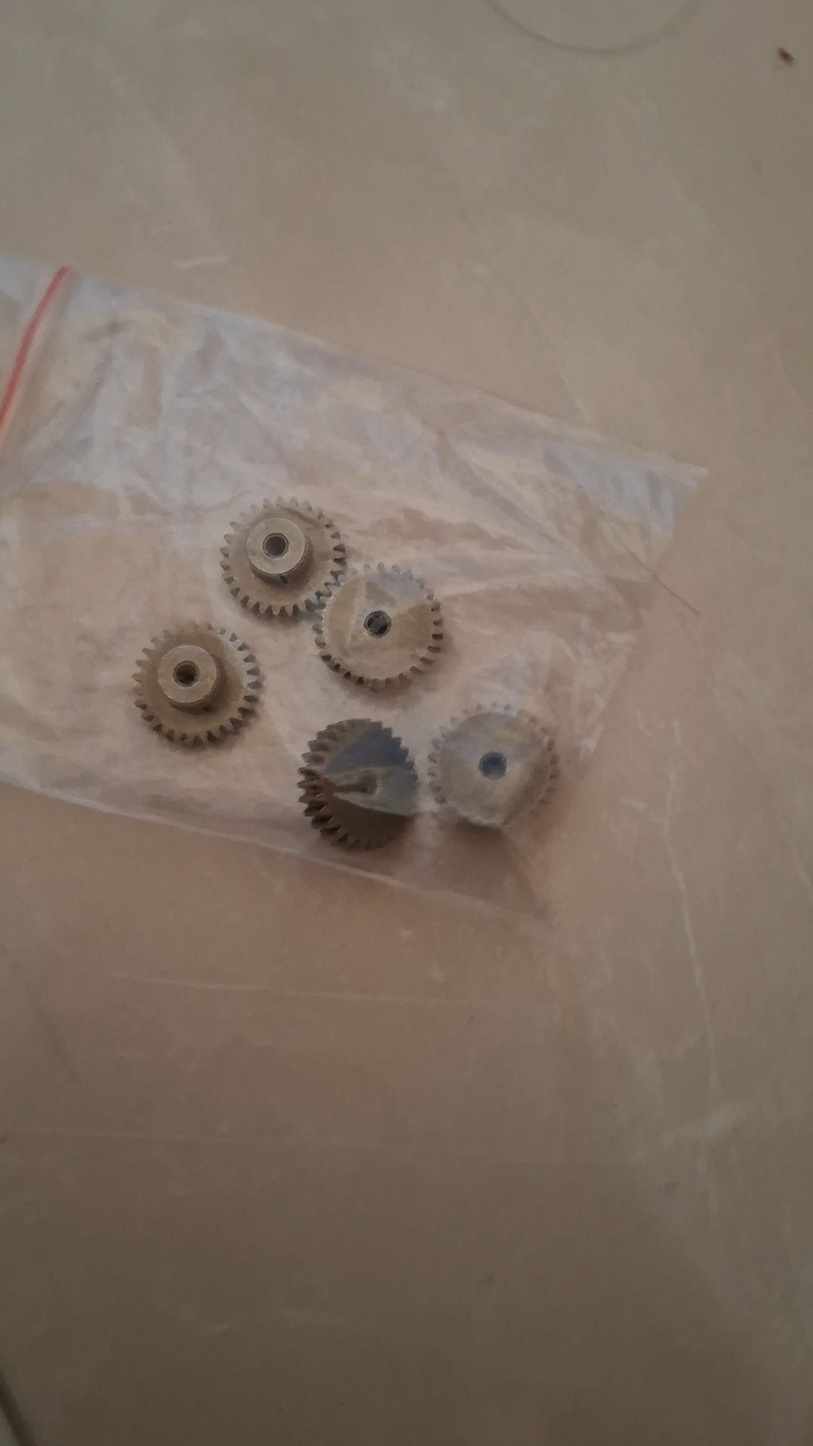spur gear: (314, 564, 443, 687), (429, 707, 559, 827), (298, 719, 417, 849), (134, 624, 261, 744), (221, 499, 345, 617)
